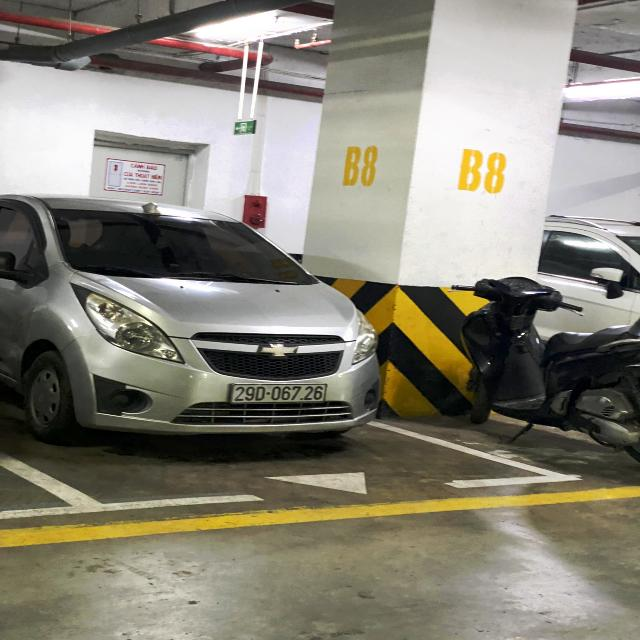license_plate: (227, 382, 332, 407)
